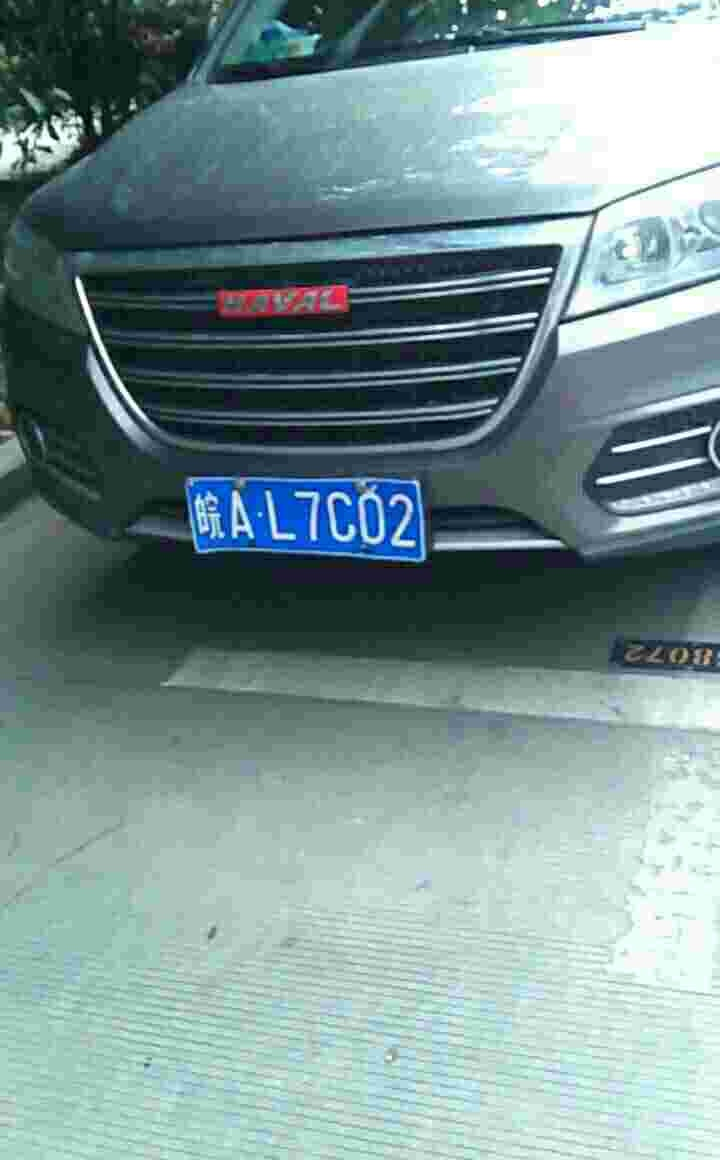car: (167, 476, 470, 573)
